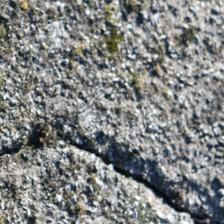Crack: (53, 0, 164, 80), (98, 46, 181, 99)
